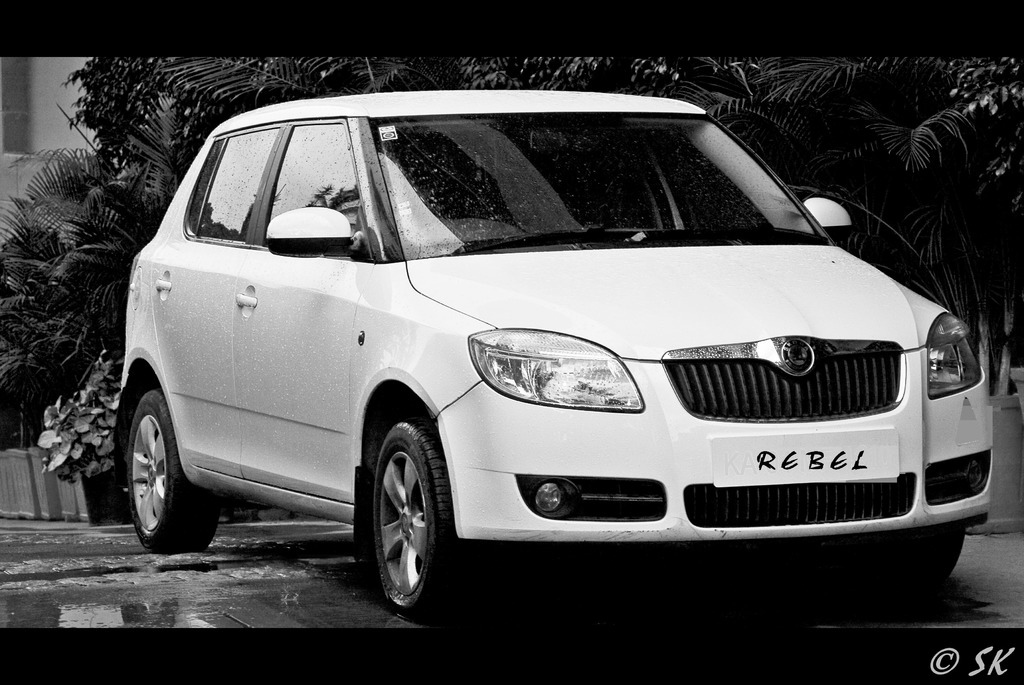Car: (115, 88, 994, 616)
